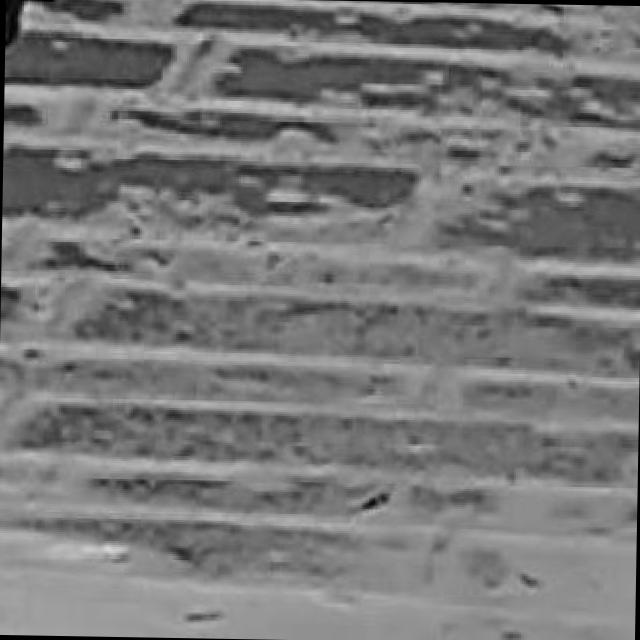Guns: (2, 0, 199, 155)
